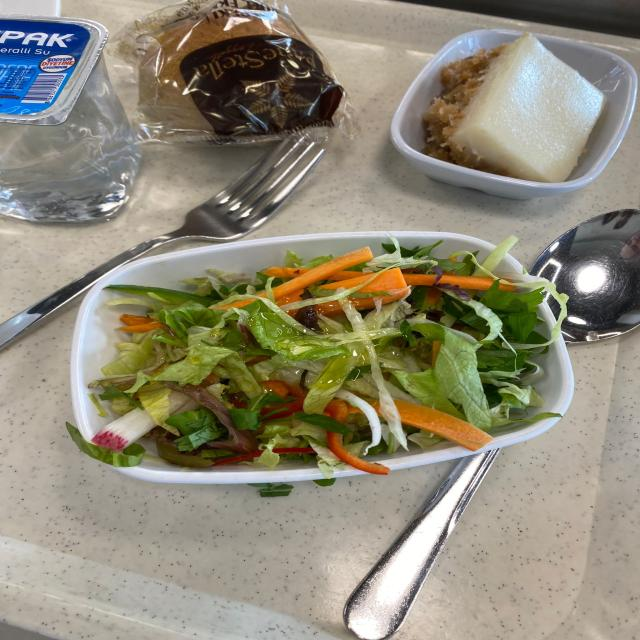yan_yemek: (70, 231, 570, 482)
